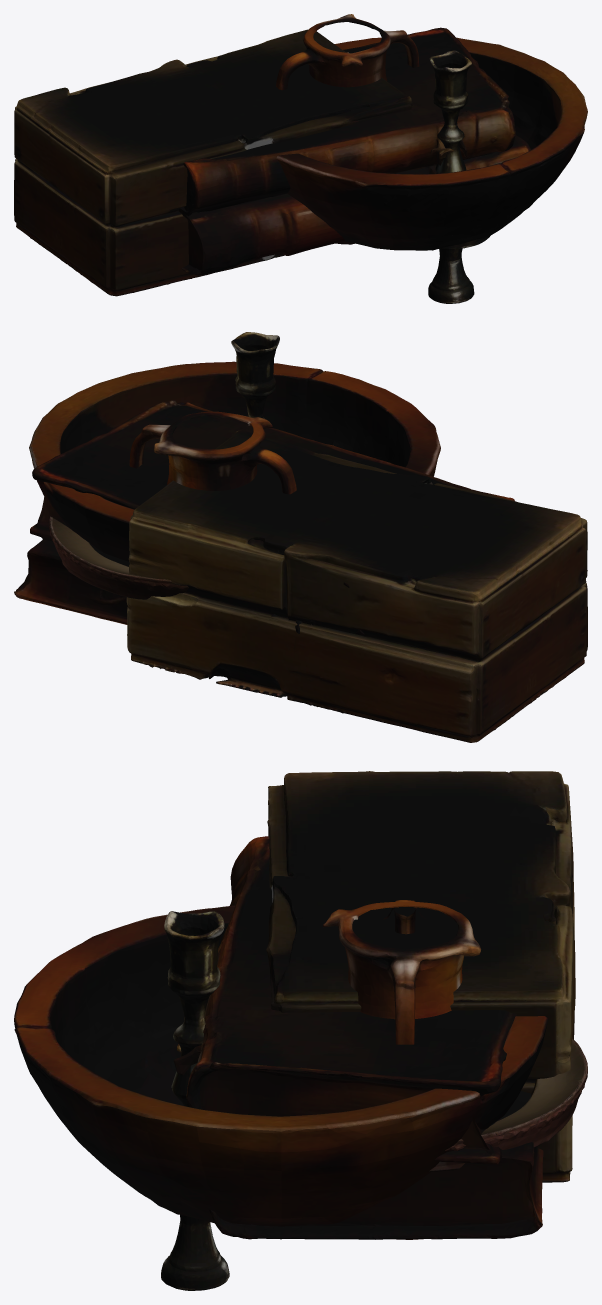
File: scenegen.glb
The picture shows the model from 3 angles, top to bottom: view 1: azimuth 30°, elevation 25°; view 2: azimuth 150°, elevation 25°; view 3: azimuth 270°, elevation 25°; orthographic projection. The views are drawn at different scales.
Parts seen in each view (by area): view 1: geometry_4, geometry_0, geometry_3, geometry_5, geometry_1; view 2: geometry_4, geometry_3, geometry_0, geometry_1, geometry_2, geometry_5; view 3: geometry_4, geometry_3, geometry_0, geometry_1, geometry_5, geometry_2.
Boxes of the visible parts, bbox=[...] form: geometry_4: bbox=[14, 29, 412, 296]; geometry_0: bbox=[178, 27, 531, 275]; geometry_3: bbox=[276, 37, 587, 250]; geometry_5: bbox=[428, 50, 489, 303]; geometry_1: bbox=[276, 14, 419, 244]; geometry_4: bbox=[126, 430, 587, 742]; geometry_3: bbox=[29, 361, 440, 561]; geometry_0: bbox=[14, 400, 514, 635]; geometry_1: bbox=[129, 411, 296, 494]; geometry_2: bbox=[49, 516, 188, 599]; geometry_5: bbox=[231, 332, 279, 418]; geometry_4: bbox=[266, 771, 575, 1182]; geometry_3: bbox=[14, 905, 548, 1226]; geometry_0: bbox=[173, 836, 572, 1239]; geometry_1: bbox=[323, 900, 481, 1239]; geometry_5: bbox=[145, 911, 229, 1290]; geometry_2: bbox=[428, 1038, 587, 1171].
Bounding box in the file's own units: 1.96 × 0.9622 × 1.4.
6 materials, 6 textured.
